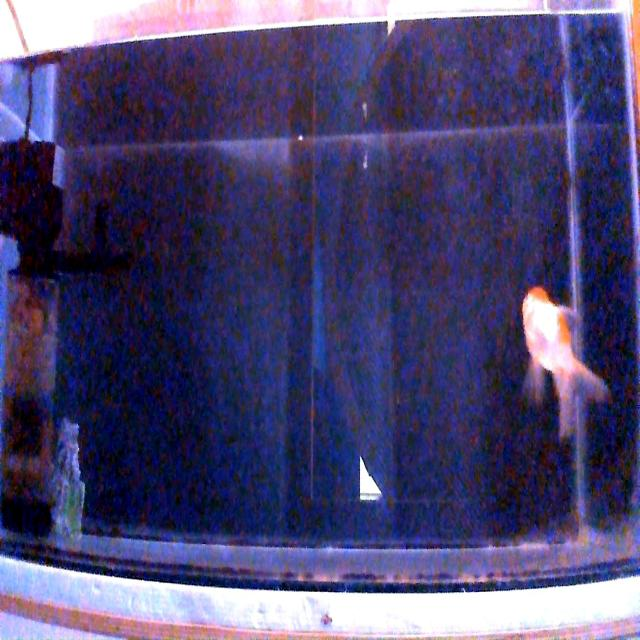fish: (519, 285, 611, 431)
